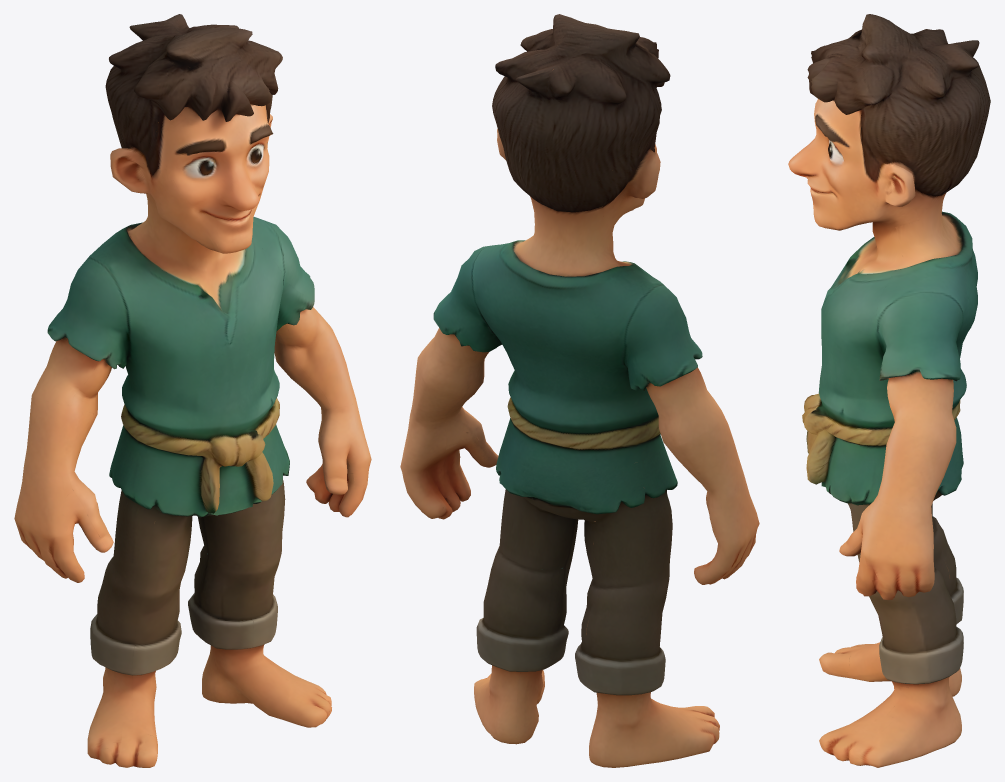
Rendered from base_basic_shaded.fbx.
3 views of the same model, side by side, from view 1: azimuth 30°, elevation 25°; view 2: azimuth 150°, elevation 25°; view 3: azimuth 270°, elevation 25° (orthographic). The views are drawn at different scales.
Parts seen in each view (by area): view 1: model; view 2: model; view 3: model.
Part boxes in pixels (<box>): model: <box>14,14,371,767</box>; model: <box>400,14,759,767</box>; model: <box>788,14,990,767</box>.
Bounding box in the file's own units: 94.81 × 188 × 50.36.
